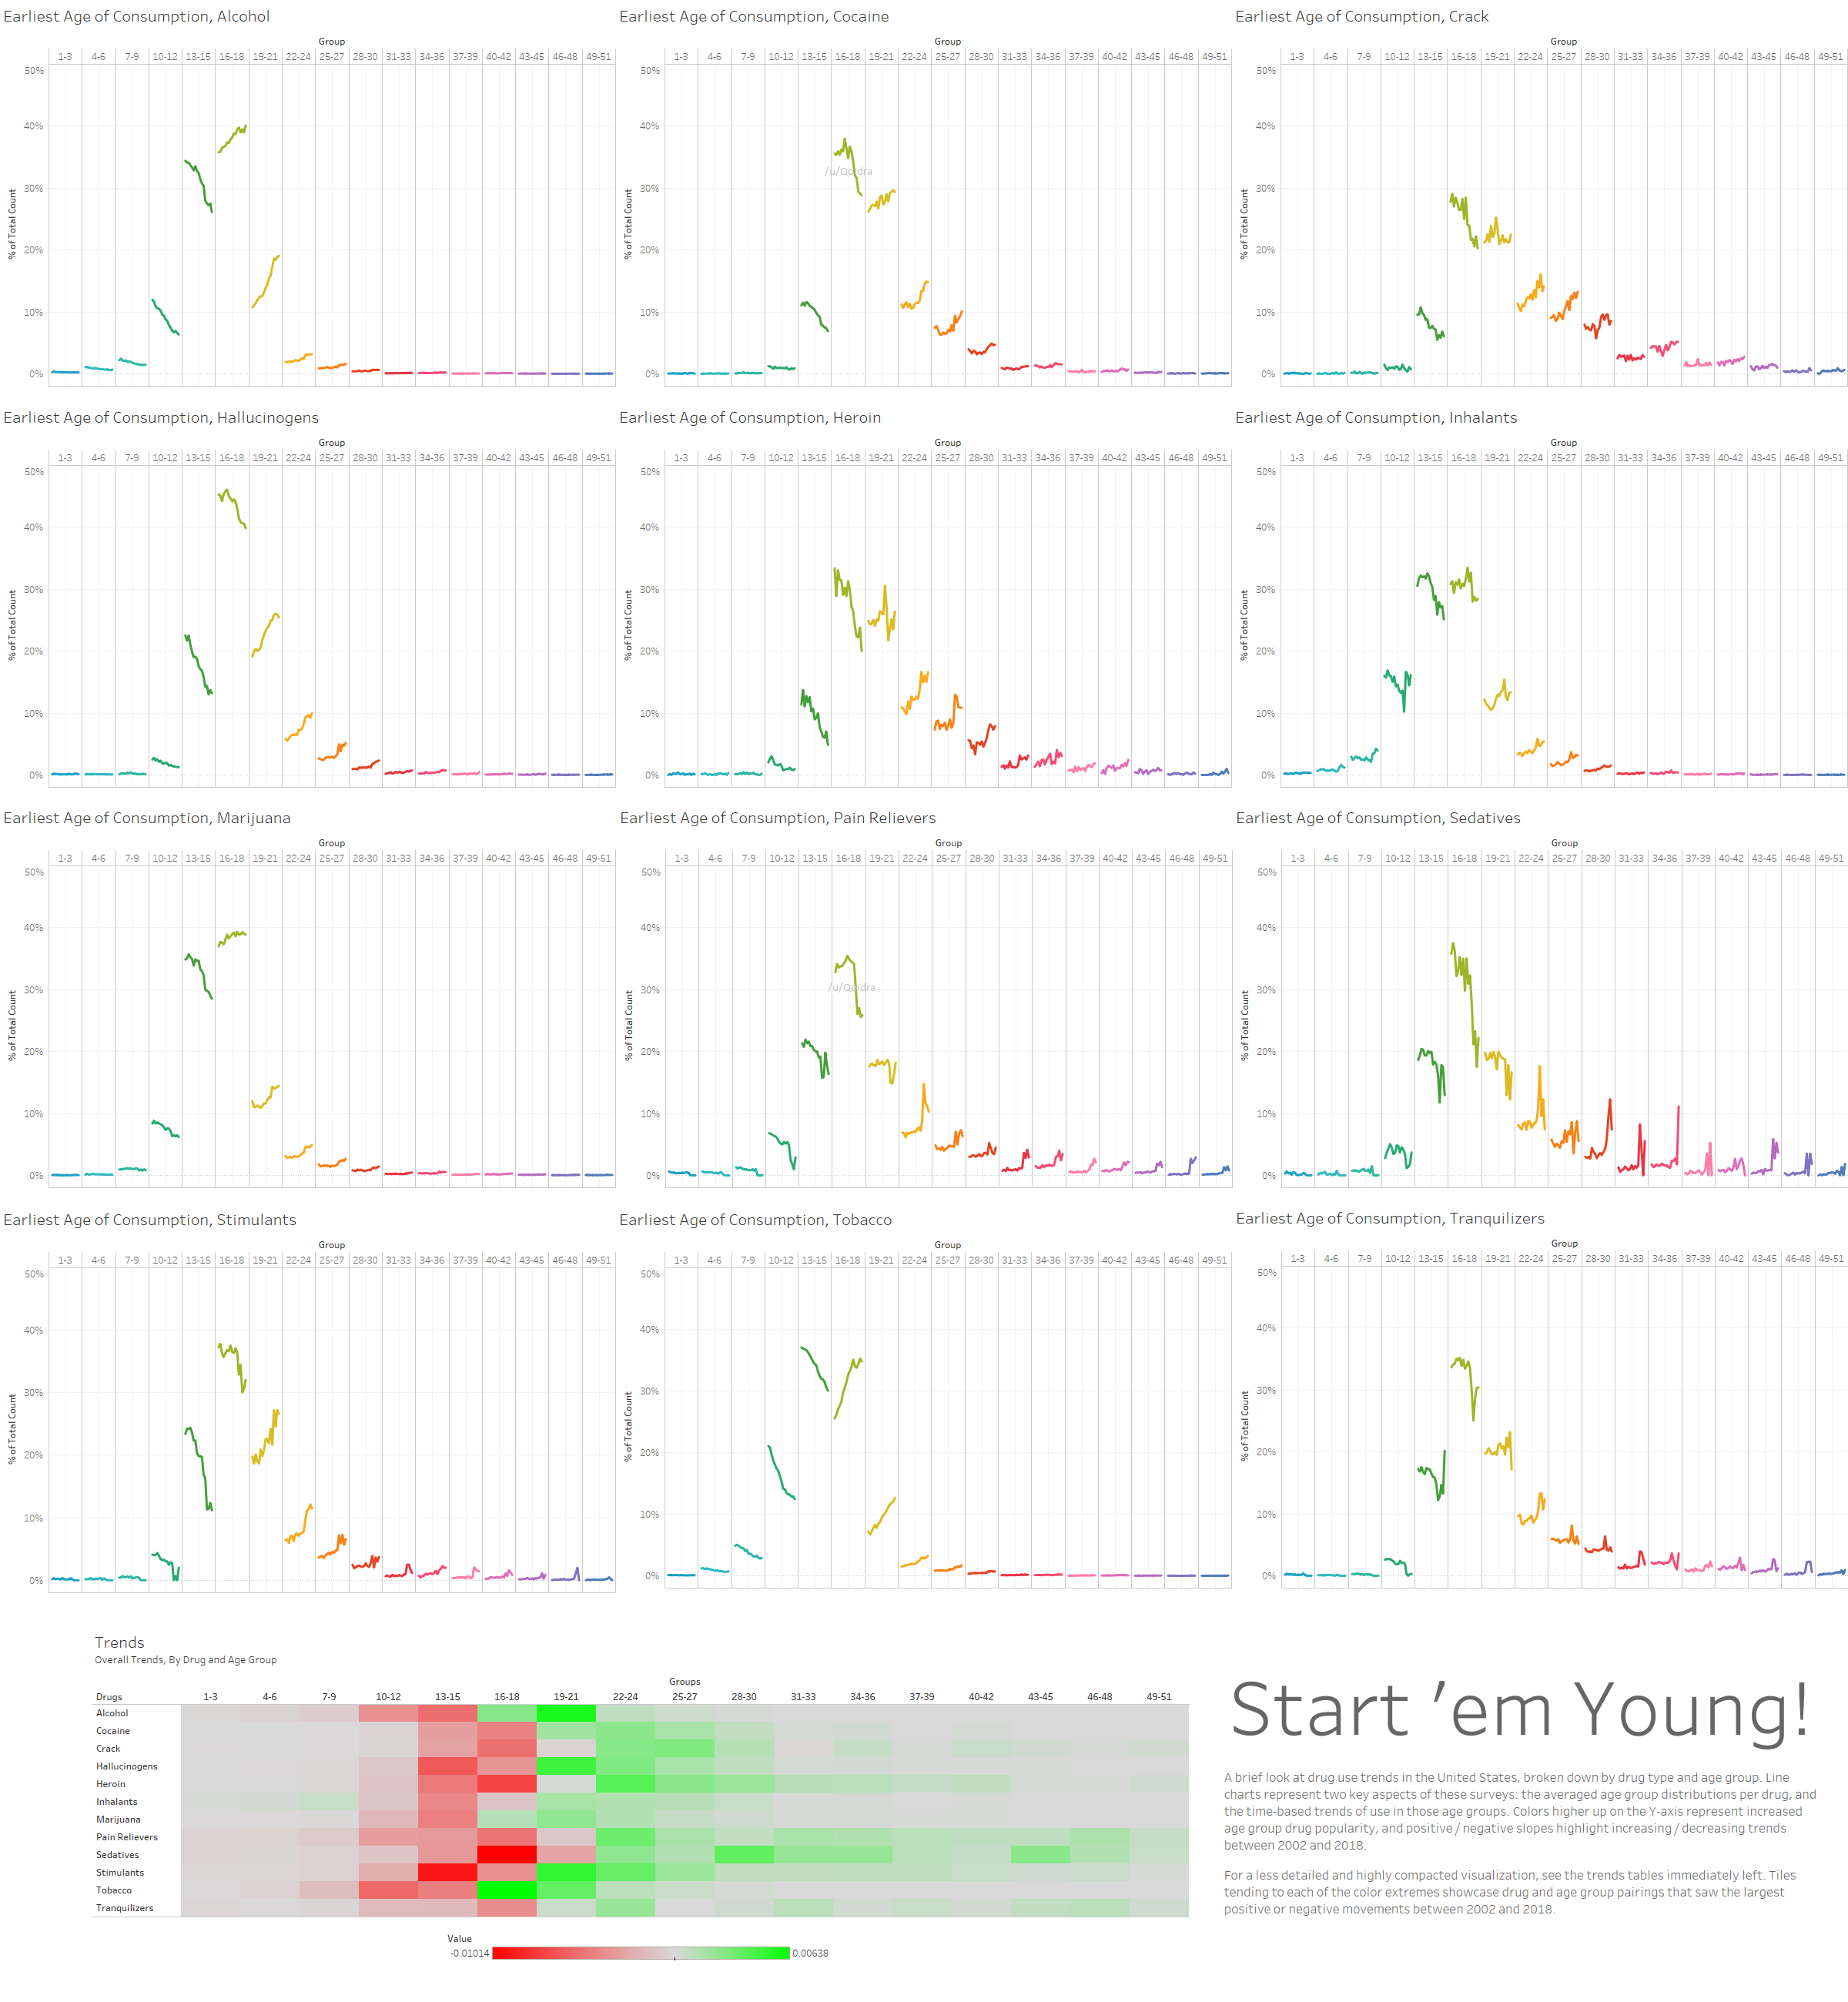

Layout of this report page (visuals, bound fields, positions):
{"tool":"tableau","page":{"name":"Dashboard","canvas":[2400,2600],"ordinal":0},"visuals":[{"type":"worksheet","title":"Alcohol","mark":"Automatic","cols":["Group","Year"],"box":[0,0,800,501.8]},{"type":"worksheet","title":"Cocaine","mark":"Automatic","cols":["Group","Year"],"box":[800,0,800,501.8]},{"type":"worksheet","title":"Crack","mark":"Automatic","cols":["Group","Year"],"box":[1600,0,800,501.8]},{"type":"worksheet","title":"Hallucinogens","mark":"Automatic","cols":["Group","Year"],"box":[0,521.3,800,501.8]},{"type":"worksheet","title":"Heroin","mark":"Automatic","cols":["Group","Year"],"box":[800,521.3,800,501.8]},{"type":"worksheet","title":"Inhalants","mark":"Automatic","cols":["Group","Year"],"box":[1600,521.3,800,501.8]},{"type":"worksheet","title":"Marijuana","mark":"Automatic","cols":["Group","Year"],"box":[0,1041.3,800,501.8]},{"type":"worksheet","title":"Pain Relievers","mark":"Automatic","cols":["Group","Year"],"box":[801,1041.3,800,501.8]},{"type":"worksheet","title":"Sedatives","mark":"Automatic","cols":["Group","Year"],"box":[1601,1041.3,800,501.8]},{"type":"worksheet","title":"Tranquilizers","mark":"Automatic","cols":["Group","Year"],"box":[1601,1561.3,800,501.8]},{"type":"worksheet","title":"Stimulants","mark":"Automatic","cols":["Group","Year"],"box":[0,1563,800,506]},{"type":"worksheet","title":"Tobacco","mark":"Automatic","cols":["Group","Year"],"box":[800,1563,800,500]},{"type":"worksheet","box":[1587,2101,776,444]},{"type":"worksheet","title":"Trends","mark":"Square","rows":["Row"],"cols":["Group (Alcohol)"],"box":[119,2112,1433,418]},{"type":"worksheet","title":"Trends","mark":"Square","rows":["Row"],"cols":["Group (Alcohol)"],"param":"[federated.0pyqilo0l8oyzp16oob4i06rpk5o].[sum:Value:qk]","box":[581,2505,500,76]}]}

Visuals, with their boxes in screenshot pixels (x1, y1, x2, y2), scaled from the page's 2400x2600 canvas onto the 1848x2002 screenshot:
"Alcohol" worksheet: [0,0,616,387]
"Cocaine" worksheet: [616,0,1232,387]
"Crack" worksheet: [1232,0,1847,387]
"Hallucinogens" worksheet: [0,401,616,788]
"Heroin" worksheet: [616,401,1232,788]
"Inhalants" worksheet: [1232,401,1847,788]
"Marijuana" worksheet: [0,802,616,1188]
"Pain Relievers" worksheet: [617,802,1233,1188]
"Sedatives" worksheet: [1233,802,1847,1188]
"Tranquilizers" worksheet: [1233,1202,1847,1589]
"Stimulants" worksheet: [0,1204,616,1593]
"Tobacco" worksheet: [616,1204,1232,1589]
worksheet: [1222,1618,1820,1960]
"Trends" worksheet (Square marks): [92,1626,1195,1948]
"Trends" worksheet (Square marks): [447,1929,832,1987]
